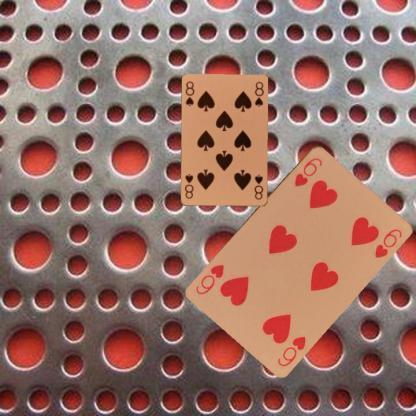6h: (274, 334, 308, 367), (292, 154, 324, 188)
8s: (252, 172, 265, 201), (183, 78, 195, 108)
